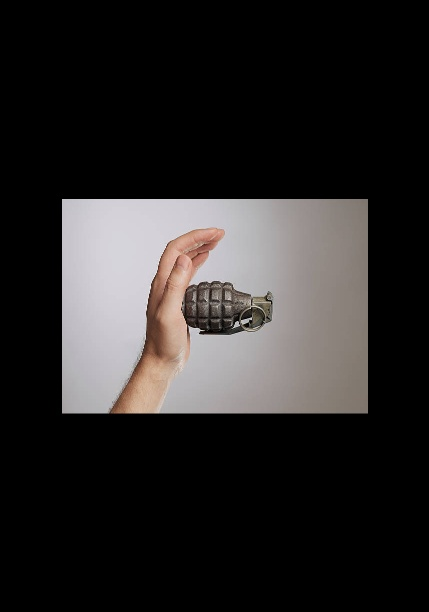e1: (184, 278, 276, 340)
